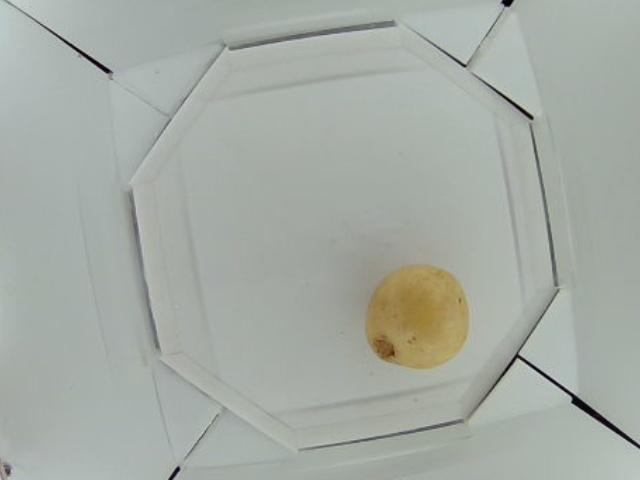Potato: (366, 264, 471, 370)
